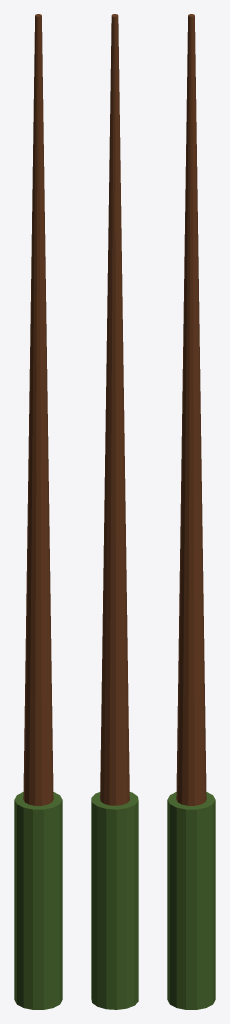
The model's file is CANNE_baton.fbx.
The picture shows the model from 3 angles, left to right: view 1: azimuth 90°, elevation 25°; view 2: azimuth 210°, elevation 25°; view 3: azimuth 270°, elevation 25°; orthographic projection.
Parts seen in each view (by area): view 1: CANNE_baton; view 2: CANNE_baton; view 3: CANNE_baton.
Part boxes in pixels (x1,y1,x2,y2): CANNE_baton: (14,14,62,1009); CANNE_baton: (91,14,138,1009); CANNE_baton: (167,14,215,1009).
Size of the model in its own units: 6.04 by 140 by 6.2.
